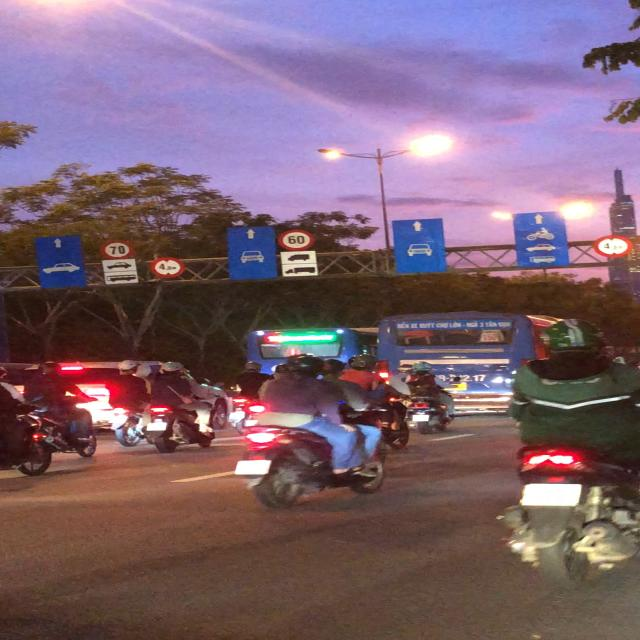Bien bao han che chieu cao: (588, 232, 632, 259), (148, 254, 190, 278)
Bien bao toc do toi da cho phep: (274, 227, 319, 251), (97, 238, 137, 261)
